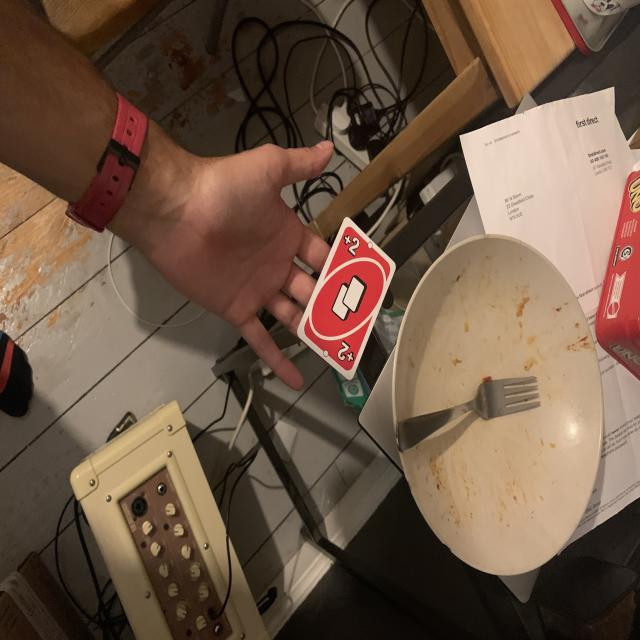lred-20: (340, 231, 363, 262)
